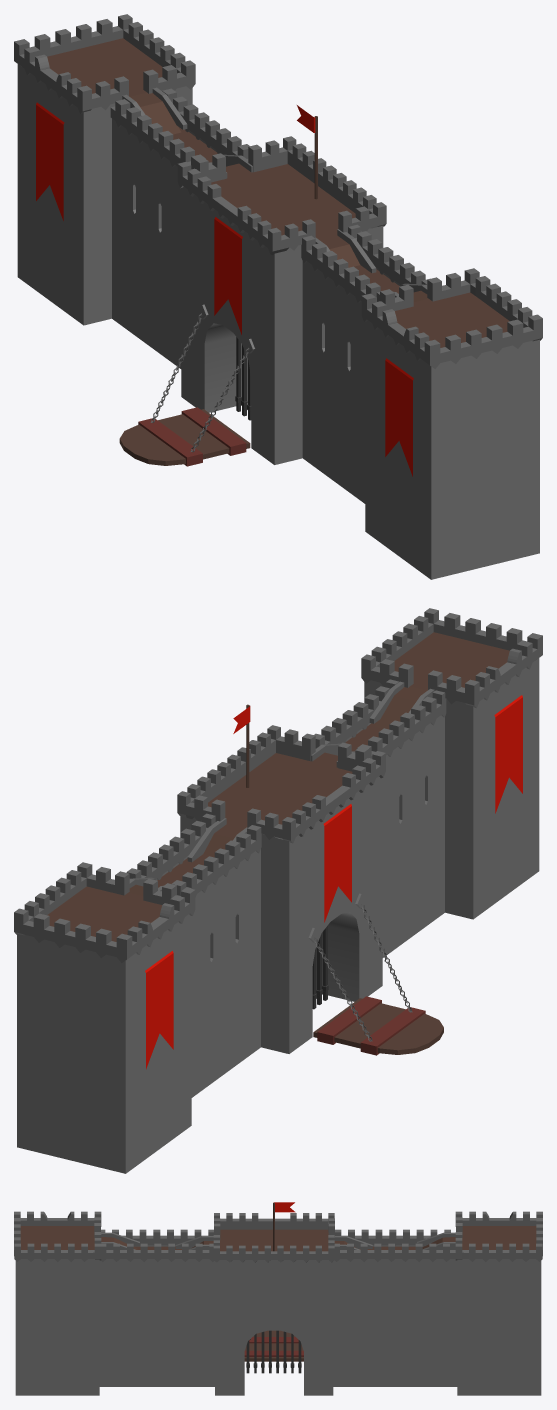
The model's file is zamokfix.fbx.
3 views of the same model, one above another, from view 1: azimuth 30°, elevation 25°; view 2: azimuth 150°, elevation 25°; view 3: azimuth 270°, elevation 25° (orthographic). The views are drawn at different scales.
Parts seen in each view (by area): view 1: Cube.015, Cube.011, Cube.046, Plane.085, Plane.008, Plane.012, Plane.015, Cube.022, Plane.022, Plane.077, Plane.020, Plane.084 (+16 smaller); view 2: Cube.046, Cube.011, Cube.015, Plane.085, Plane.008, Plane.012, Plane.015, Cube.022, Plane.077, Plane.022, Plane.079, Plane.084 (+16 smaller); view 3: Plane.085, Plane.008, Cube.011, Cube.015, Cube.046, Plane.015, Plane.012, Plane.027, Plane.017, Plane.022, Plane.077, Plane.030 (+8 smaller).
Boxes of the visible parts, left/top/right/bottom form: Cube.015: left=365, top=292, right=539, bottom=579; Cube.011: left=181, top=164, right=383, bottom=464; Cube.046: left=17, top=38, right=192, bottom=325; Plane.085: left=112, top=118, right=217, bottom=368; Plane.008: left=302, top=261, right=400, bottom=503; Plane.012: left=248, top=136, right=386, bottom=232; Plane.015: left=177, top=153, right=315, bottom=255; Cube.022: left=119, top=409, right=250, bottom=465; Plane.022: left=427, top=268, right=542, bottom=341; Plane.077: left=118, top=14, right=195, bottom=93; Plane.020: left=424, top=319, right=534, bottom=368; Plane.084: left=36, top=102, right=64, bottom=220; Cube.046: left=17, top=886, right=191, bottom=1173; Cube.011: left=180, top=753, right=382, bottom=1053; Cube.015: left=364, top=632, right=539, bottom=919; Plane.085: left=156, top=849, right=260, bottom=1097; Plane.008: left=345, top=715, right=444, bottom=957; Plane.012: left=177, top=725, right=315, bottom=821; Plane.015: left=247, top=742, right=385, bottom=843; Cube.022: left=313, top=998, right=443, bottom=1054; Plane.077: left=14, top=862, right=129, bottom=935; Plane.022: left=361, top=608, right=438, bottom=687; Plane.079: left=22, top=913, right=132, bottom=962; Plane.084: left=145, top=951, right=173, bottom=1069; Plane.085: left=333, top=1245, right=457, bottom=1386; Plane.008: left=99, top=1245, right=214, bottom=1386; Cube.011: left=215, top=1229, right=333, bottom=1395; Cube.015: left=15, top=1226, right=99, bottom=1395; Cube.046: left=457, top=1226, right=541, bottom=1395; Plane.015: left=214, top=1213, right=334, bottom=1239; Plane.012: left=213, top=1235, right=334, bottom=1262; Plane.027: left=334, top=1243, right=455, bottom=1261; Plane.017: left=101, top=1243, right=214, bottom=1261; Plane.022: left=14, top=1232, right=101, bottom=1261; Plane.077: left=455, top=1232, right=542, bottom=1261; Plane.030: left=246, top=1330, right=301, bottom=1373.
Size of the model in its own units: 260 by 349 by 892.
